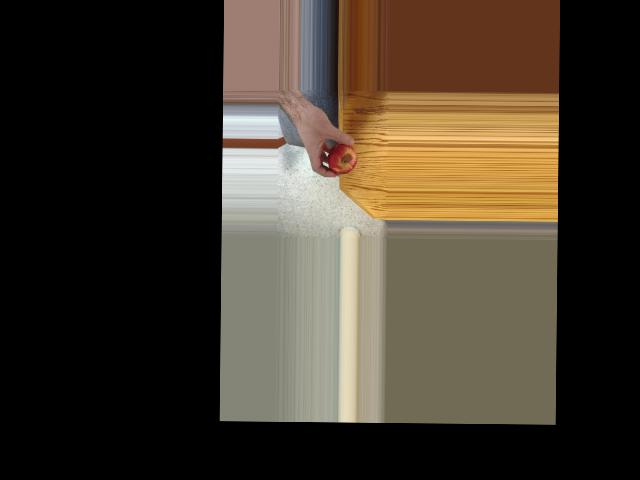apple: (327, 141, 357, 176)
